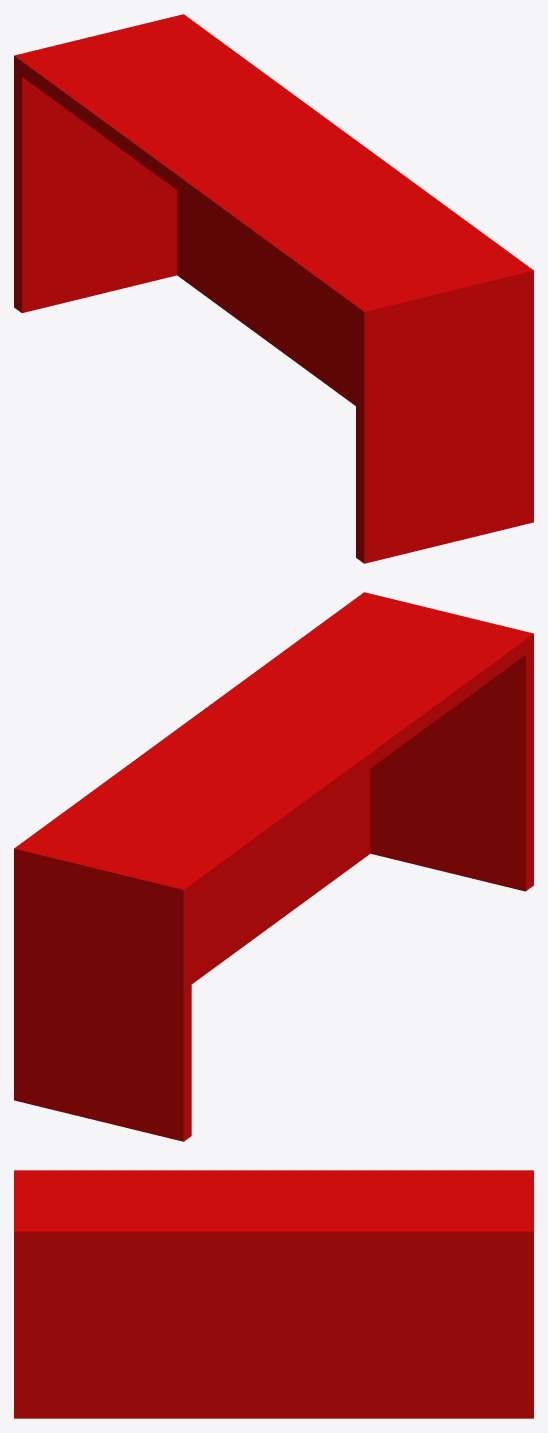
File: UmpireDeskCollider.fbx
3 views of the same model, one above another, from view 1: azimuth 30°, elevation 25°; view 2: azimuth 150°, elevation 25°; view 3: azimuth 270°, elevation 25° (orthographic). The views are drawn at different scales.
Visible parts, largest first — view 1: UmpireDeskCollision; view 2: UmpireDeskCollision; view 3: UmpireDeskCollision.
Part boxes in pixels (x1,y1,x2,y2): UmpireDeskCollision: (14,14,533,563); UmpireDeskCollision: (14,592,533,1141); UmpireDeskCollision: (14,1170,533,1418).
Size of the model in its own units: 58.29 by 82.65 by 208.
